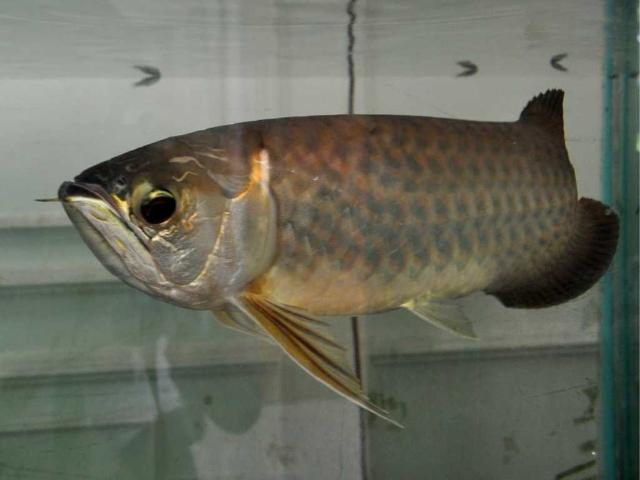Mulut: (30, 150, 174, 298)
Sirip Anal: (500, 198, 632, 334)
Sirip Dada: (200, 282, 412, 440)
Sirip Perut: (381, 282, 491, 354)
Sirip Punggung: (495, 76, 583, 150)
